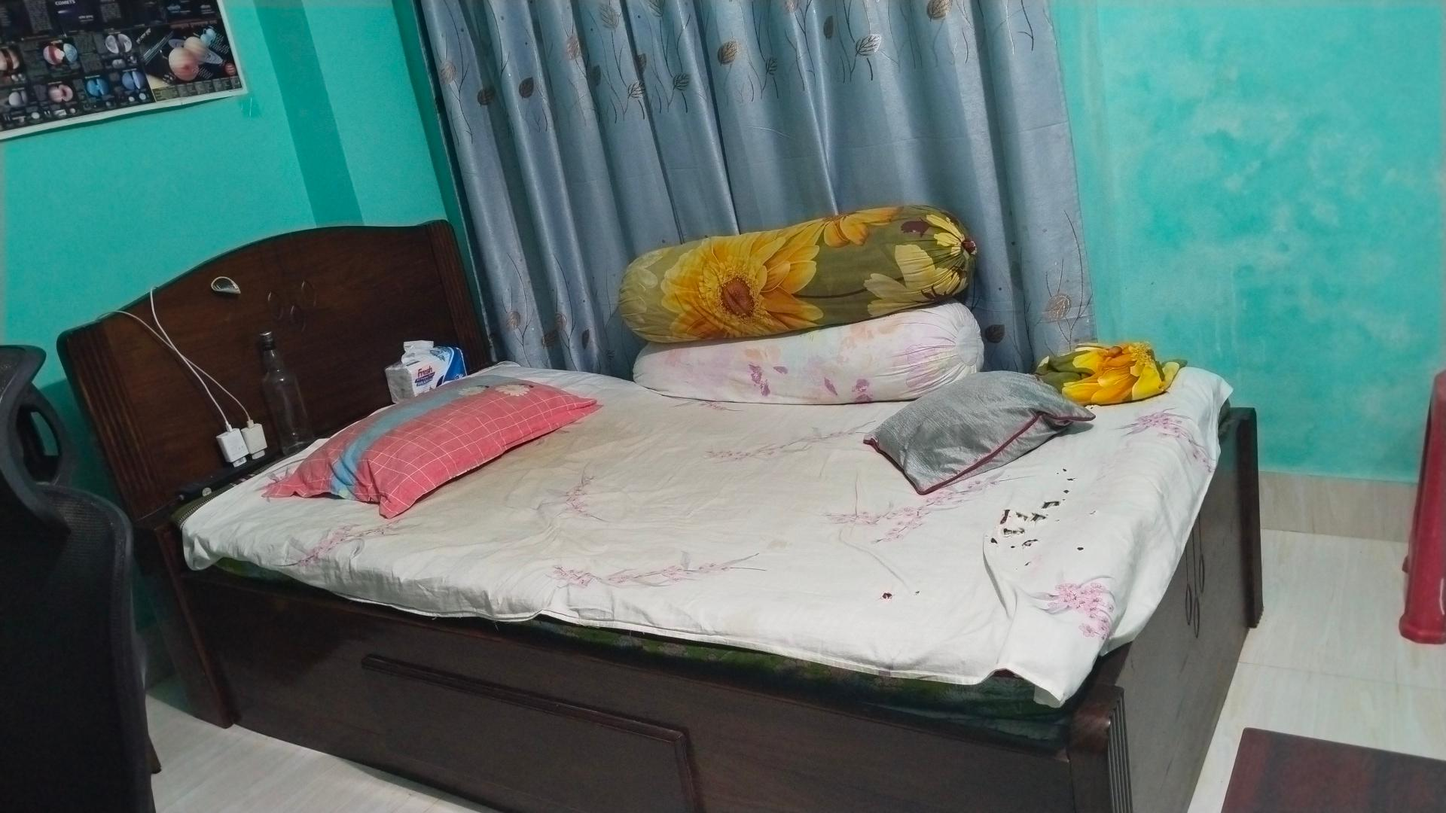Bottle: (235, 315, 321, 451)
Pillow: (247, 357, 584, 524), (584, 225, 989, 332), (636, 287, 1005, 397), (884, 330, 1069, 491)
